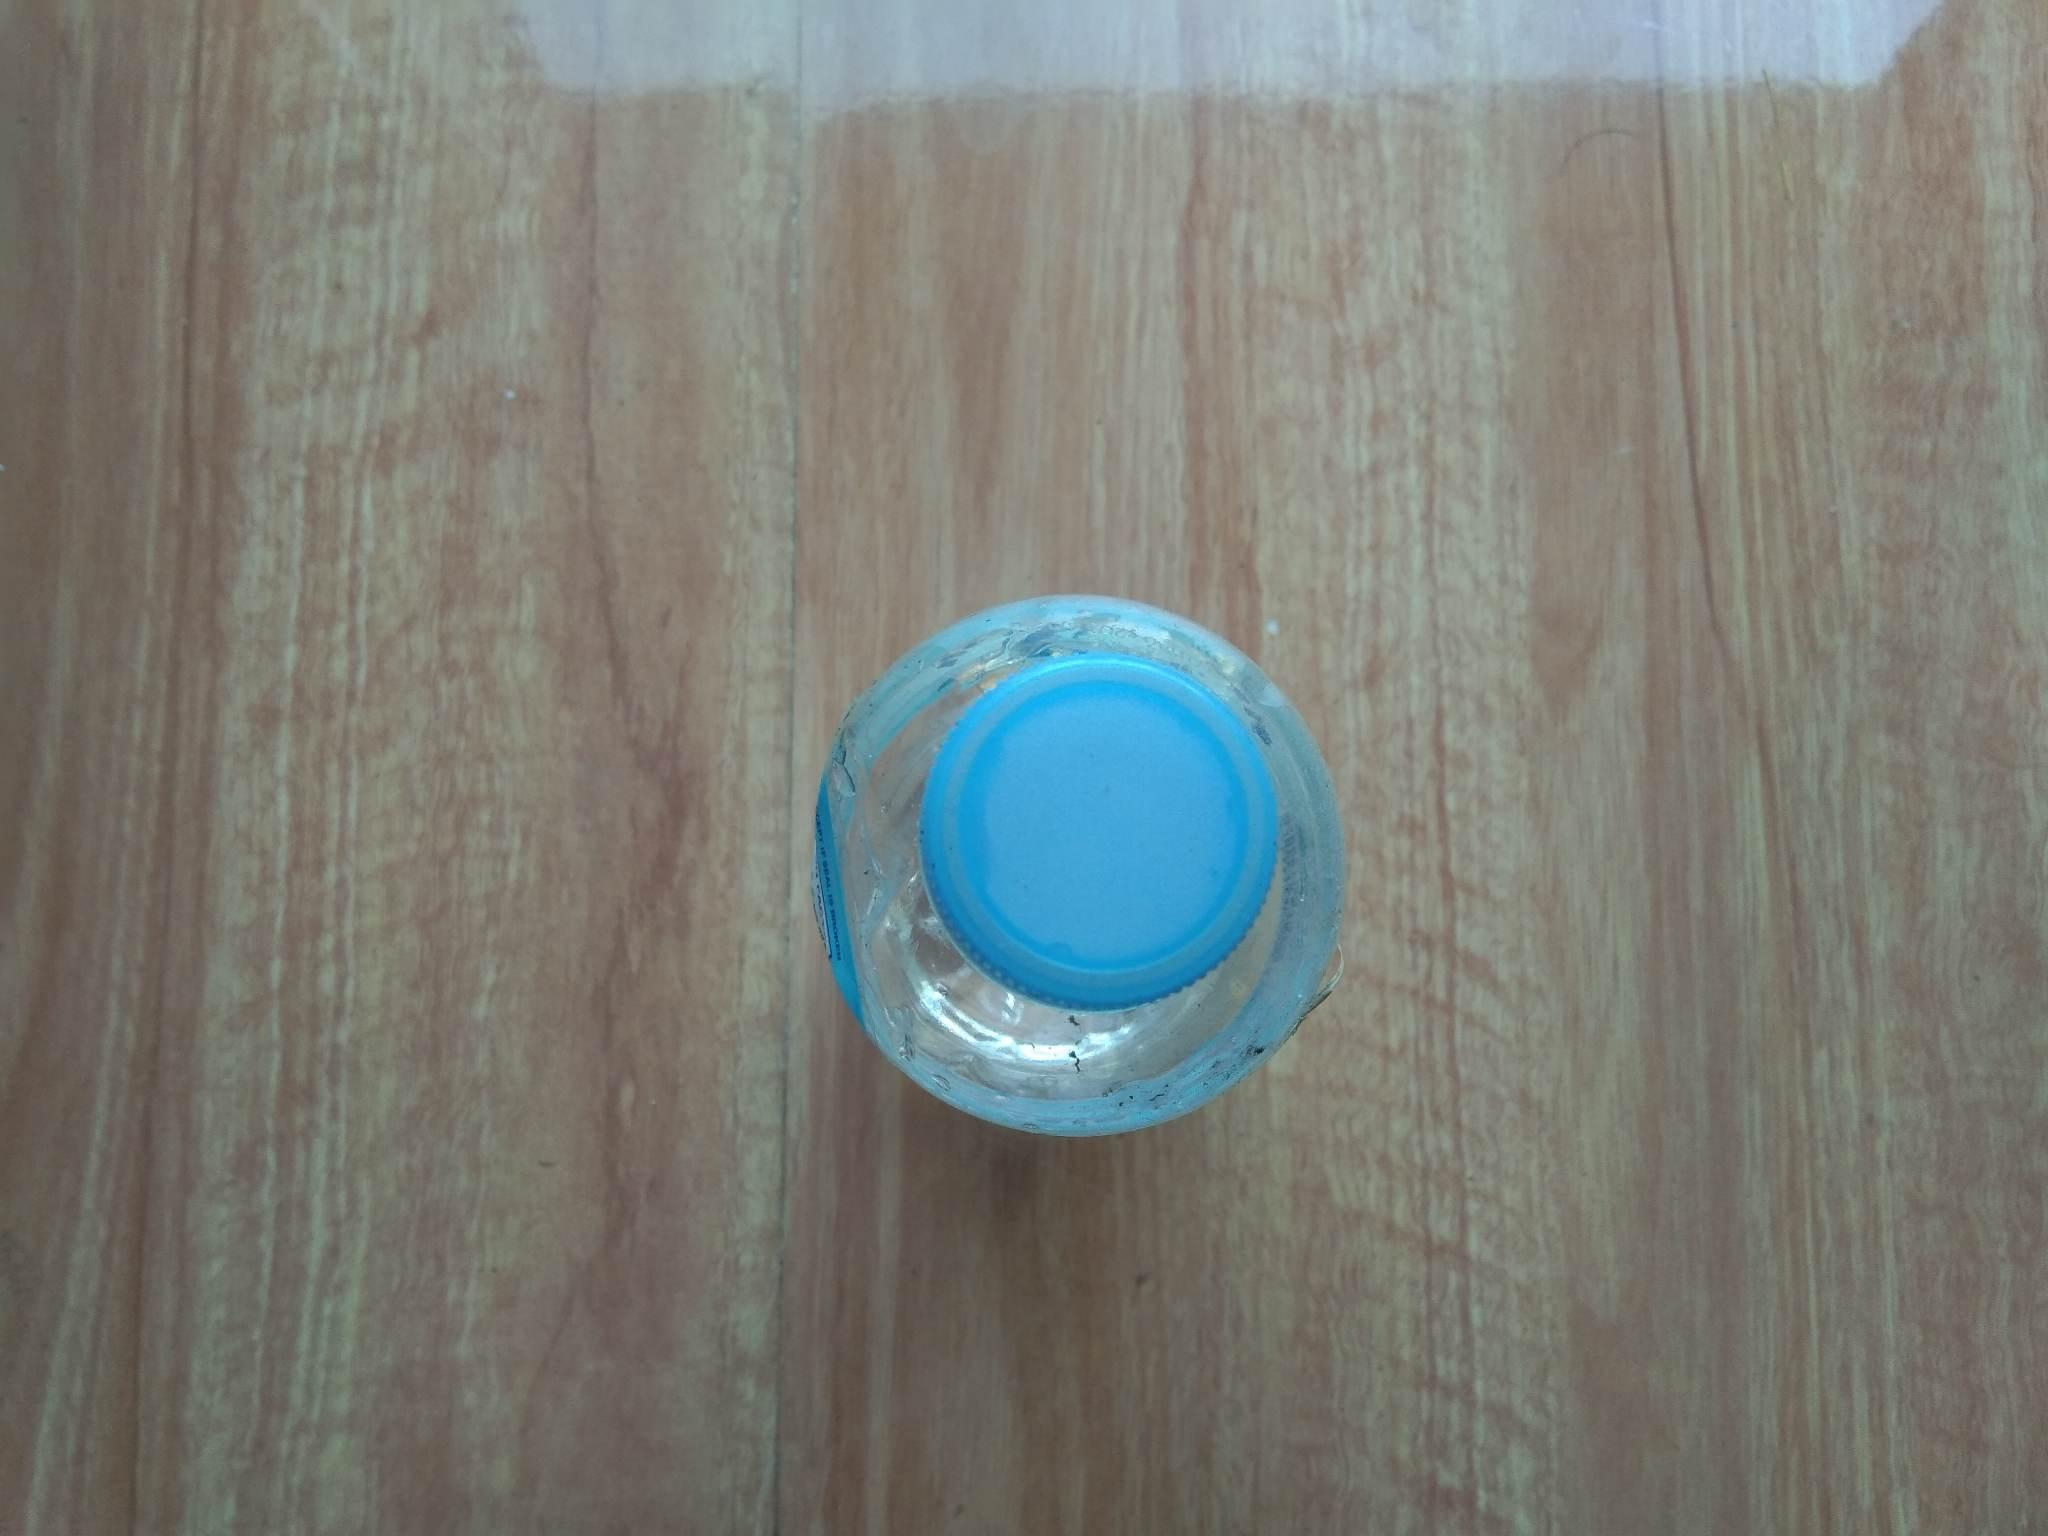plastic: (681, 566, 1388, 1233)
